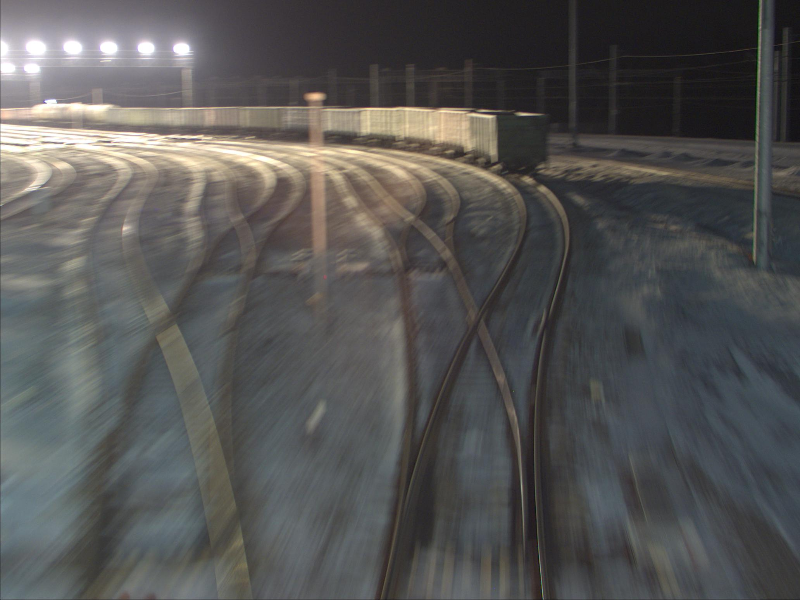right: (399, 313, 550, 556)
